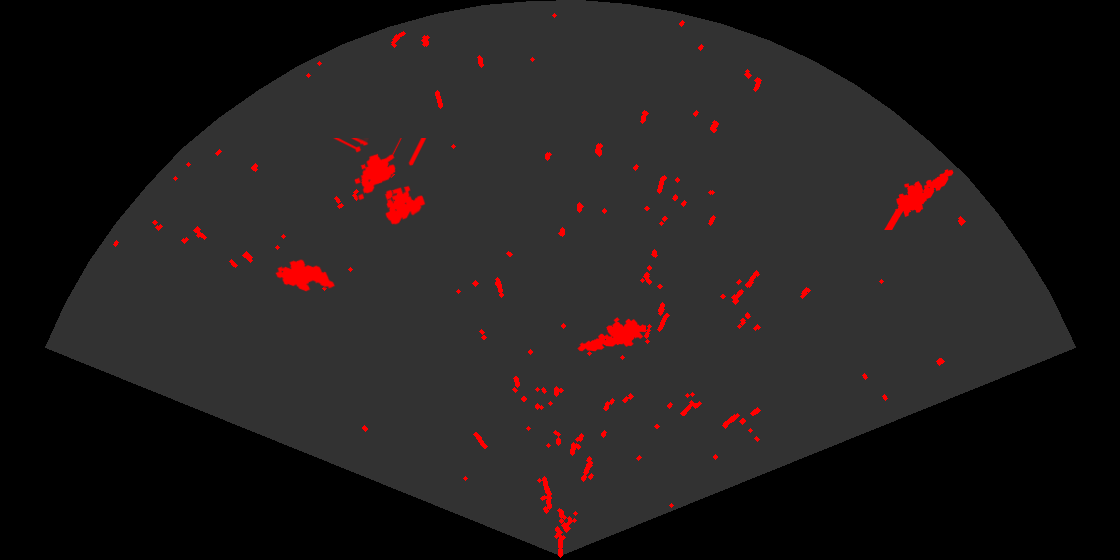AUV: (274, 258, 337, 293)
cage: (332, 138, 428, 226)
frogman: (883, 167, 955, 230), (576, 316, 646, 353)
